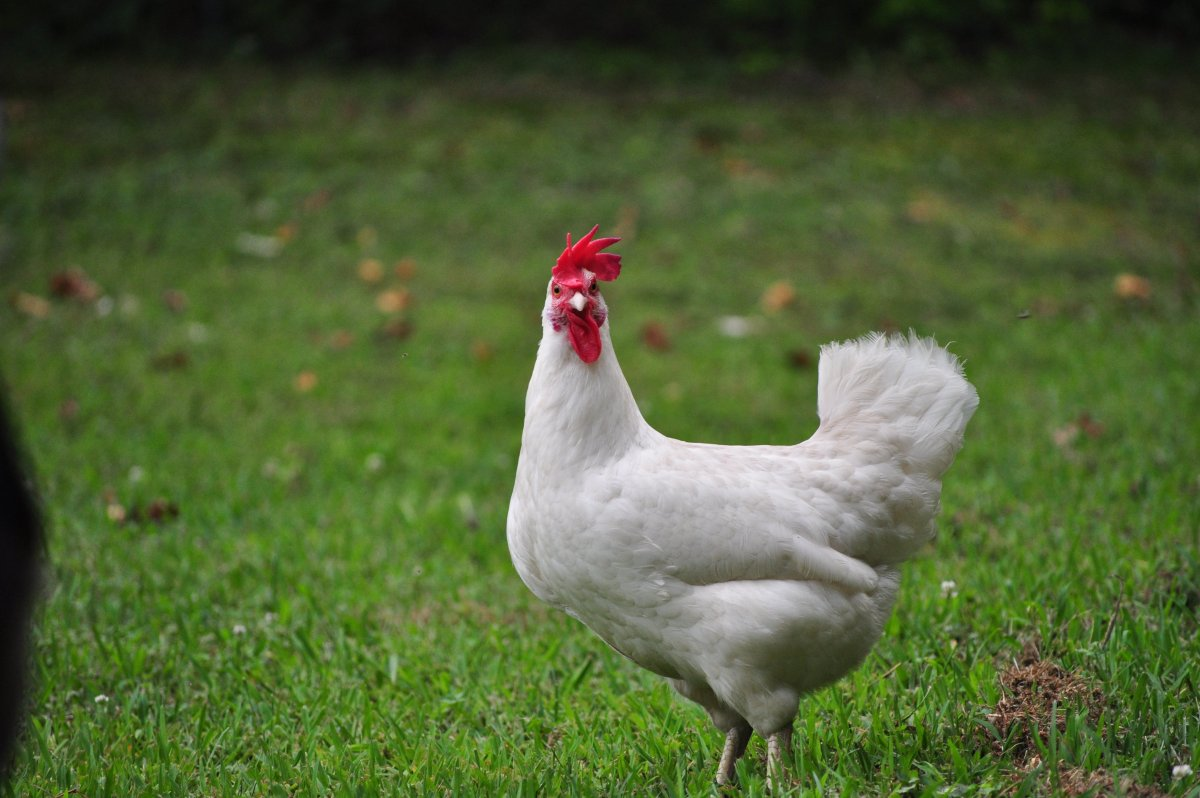Healthy: (495, 211, 985, 778)
